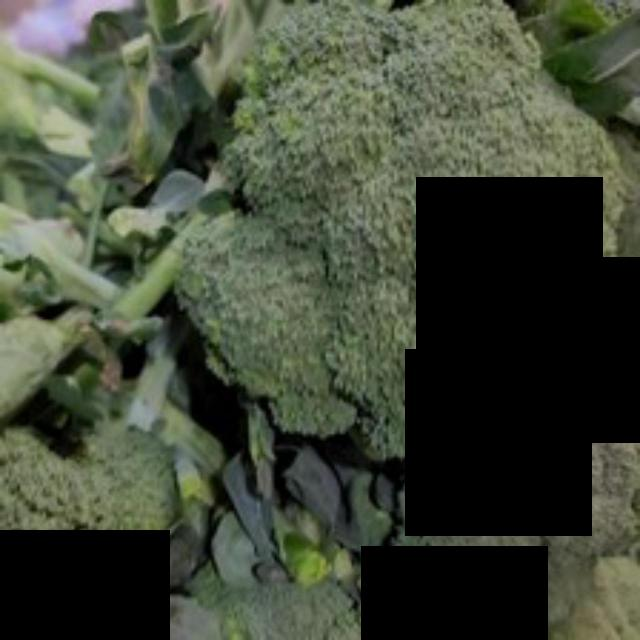broccoli: (186, 0, 636, 460)
